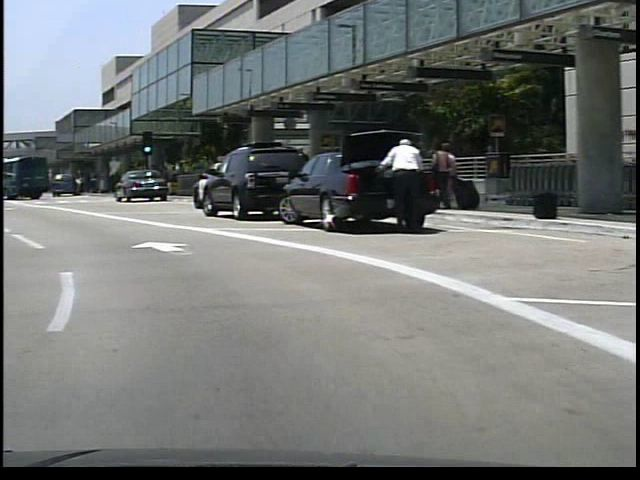person: (367, 132, 420, 235), (429, 138, 451, 215), (423, 141, 446, 214)
